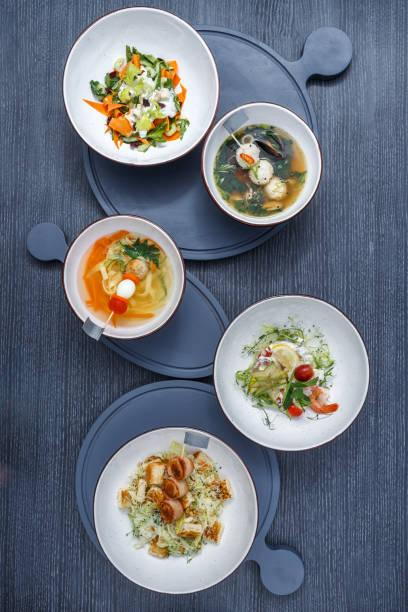Braised Crucian Carp: (91, 424, 259, 591), (62, 6, 219, 169), (212, 296, 370, 451), (63, 215, 186, 341), (200, 101, 321, 227)
